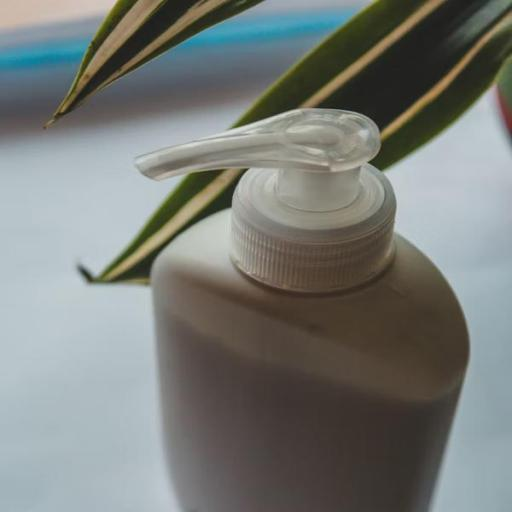bottle: (130, 99, 479, 512)
